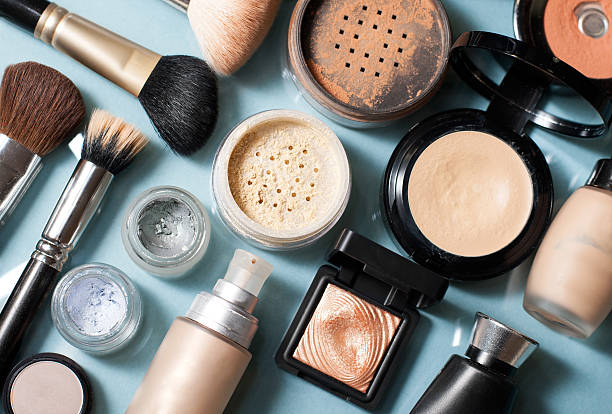Nonrec_Other: (7, 12, 604, 410)
